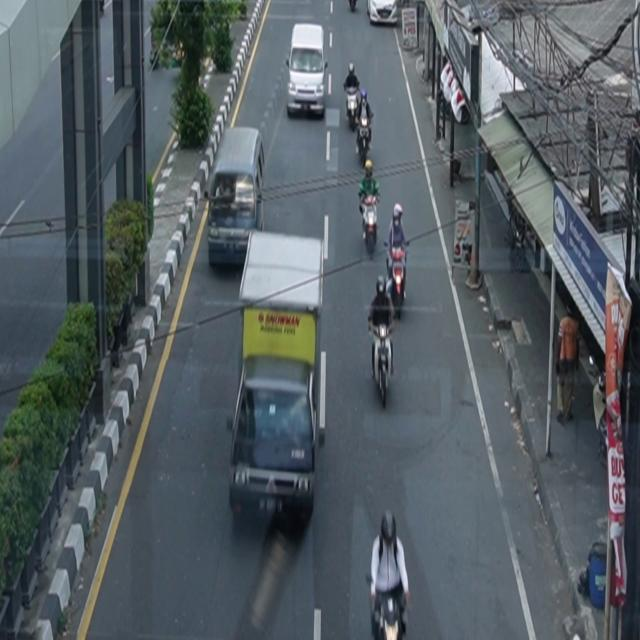bus: (206, 126, 266, 268)
car: (228, 354, 318, 524), (286, 24, 329, 120)
